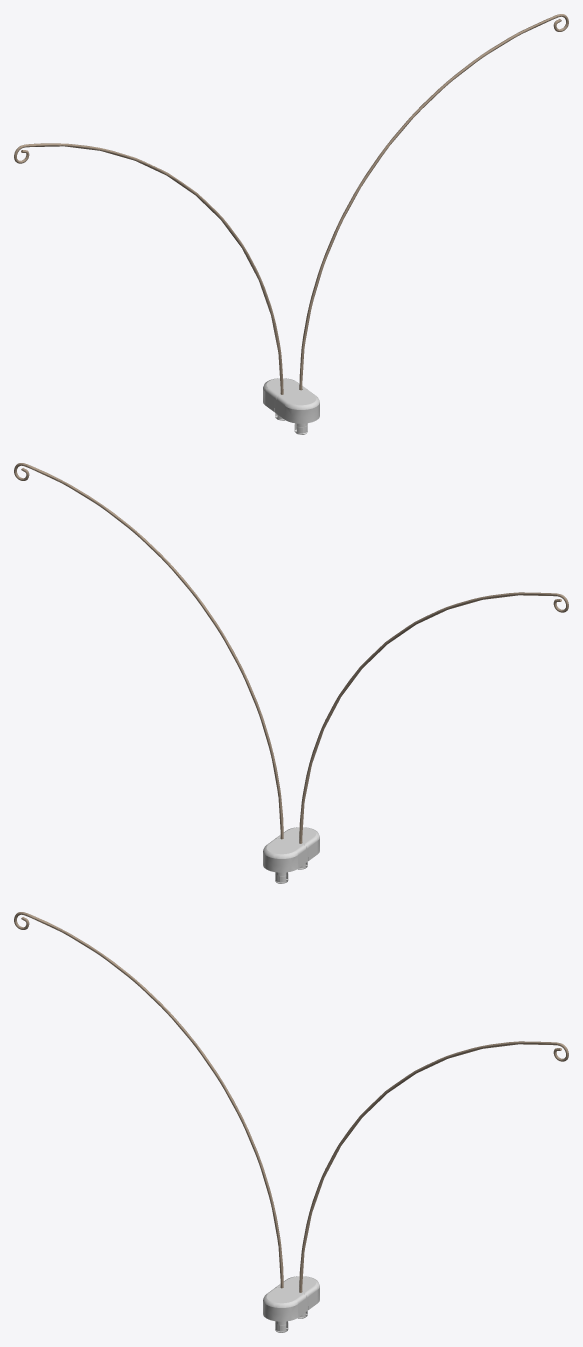
File: ant-front-antenna-228-2500-320-352.glb
3 views of the same model, one above another, from view 1: azimuth 30°, elevation 25°; view 2: azimuth 150°, elevation 25°; view 3: azimuth 330°, elevation 25° (orthographic).
Bounding box in the file's own units: 210 × 125 × 25.06.
